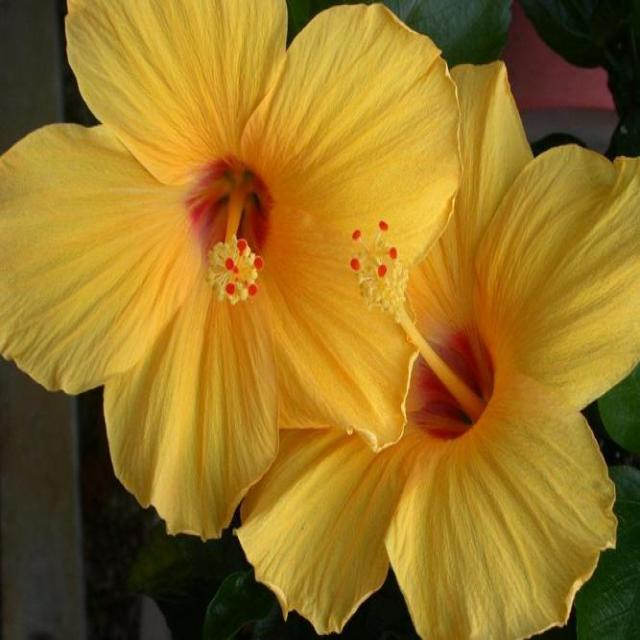hibiscus: (10, 18, 625, 640)
